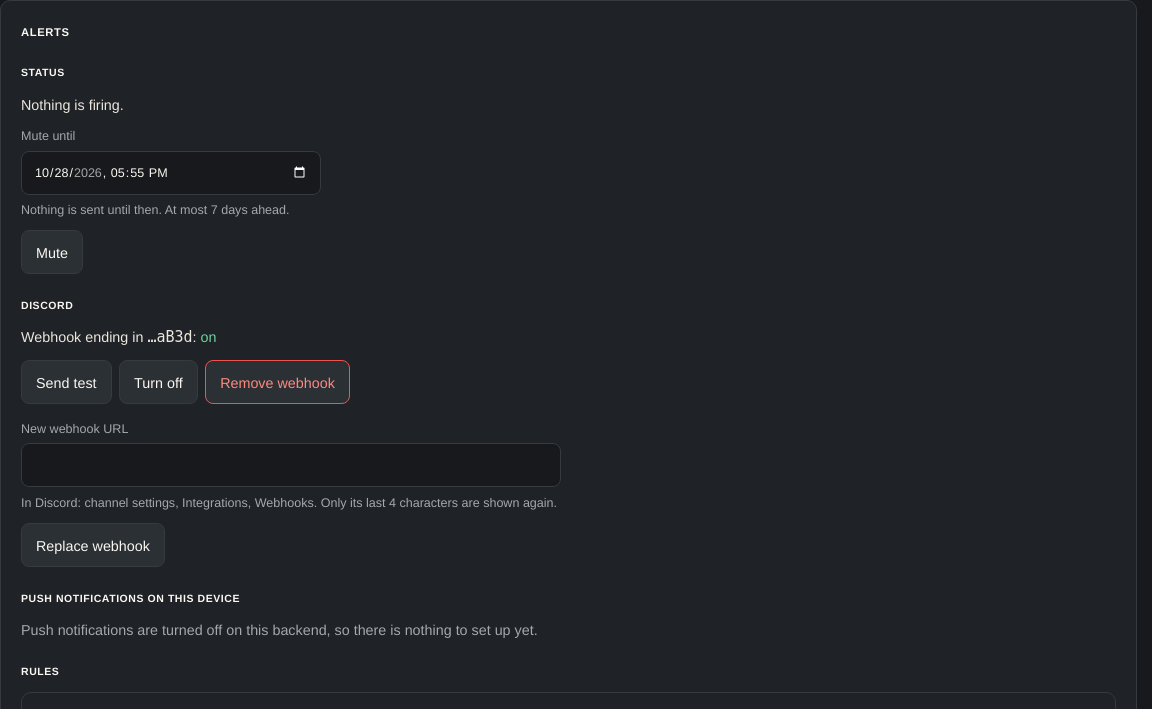
Test: the Discord controls › says what a test found
The image size is (1152, 709).
Click the button "Send test": {"x": 66, "y": 382} [21,360,112,404]
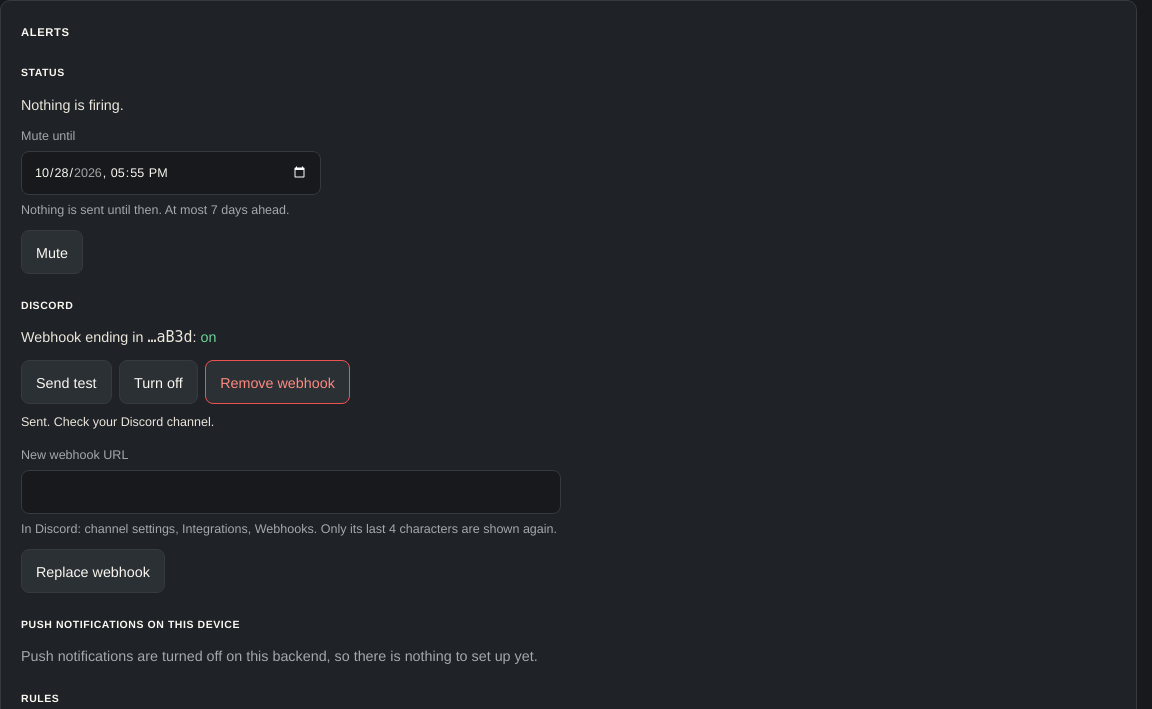
Result: the message reads "Sent. Check your Discord channel." at [21,412,214,428]
